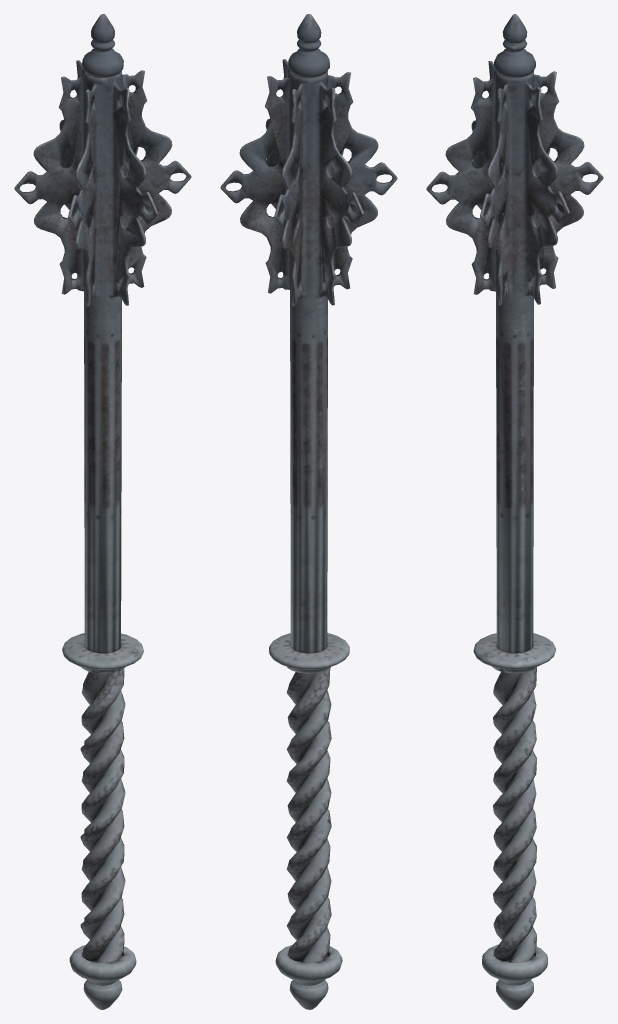
Rendered from ornate_medieval_mace.65c9f12c.glb.
The picture shows the model from 3 angles, left to right: view 1: azimuth 30°, elevation 25°; view 2: azimuth 150°, elevation 25°; view 3: azimuth 270°, elevation 25°; orthographic projection.
Parts seen in each view (by area): view 1: ornate_medieval_mace; view 2: ornate_medieval_mace; view 3: ornate_medieval_mace.
Part boxes in pixels (bbox=[...]): ornate_medieval_mace: bbox=[14, 14, 191, 1009]; ornate_medieval_mace: bbox=[220, 14, 397, 1009]; ornate_medieval_mace: bbox=[426, 14, 603, 1009].
Bounding box in the file's own units: 0.1506 × 1 × 0.1615.
Materials: 1 (1 with a texture image).
